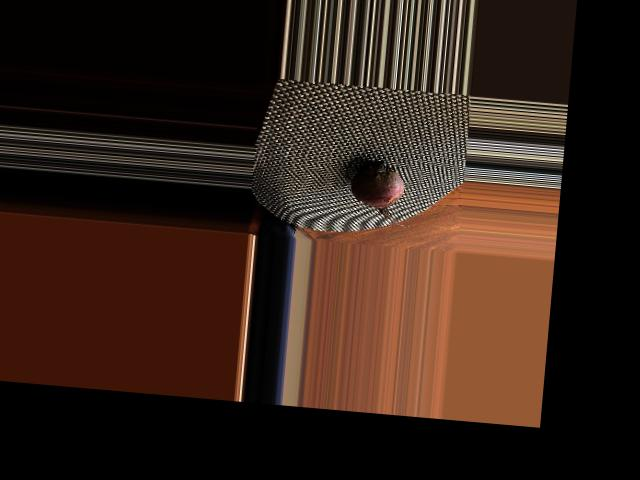beet: (340, 155, 415, 226)
